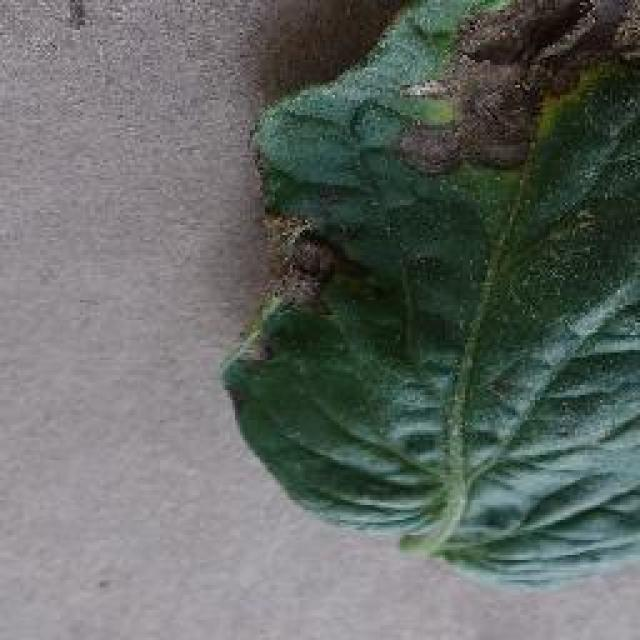Tomato Early blight leaf: (242, 0, 640, 545)
